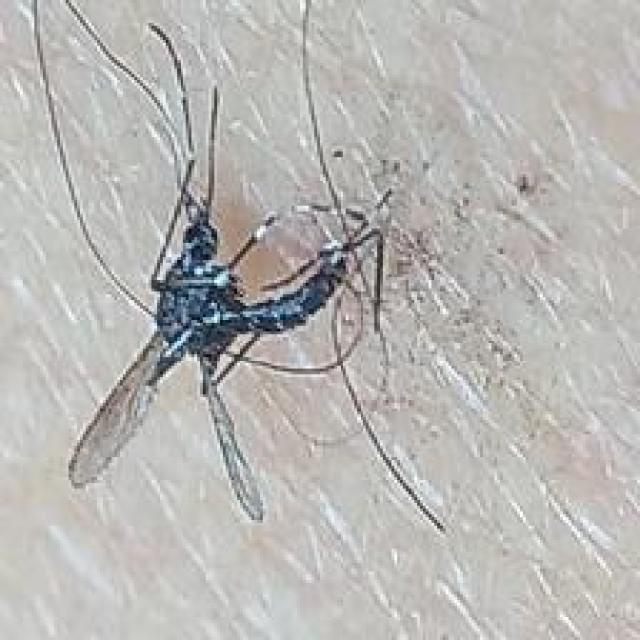Aedes albopictus: (21, 0, 449, 534)
